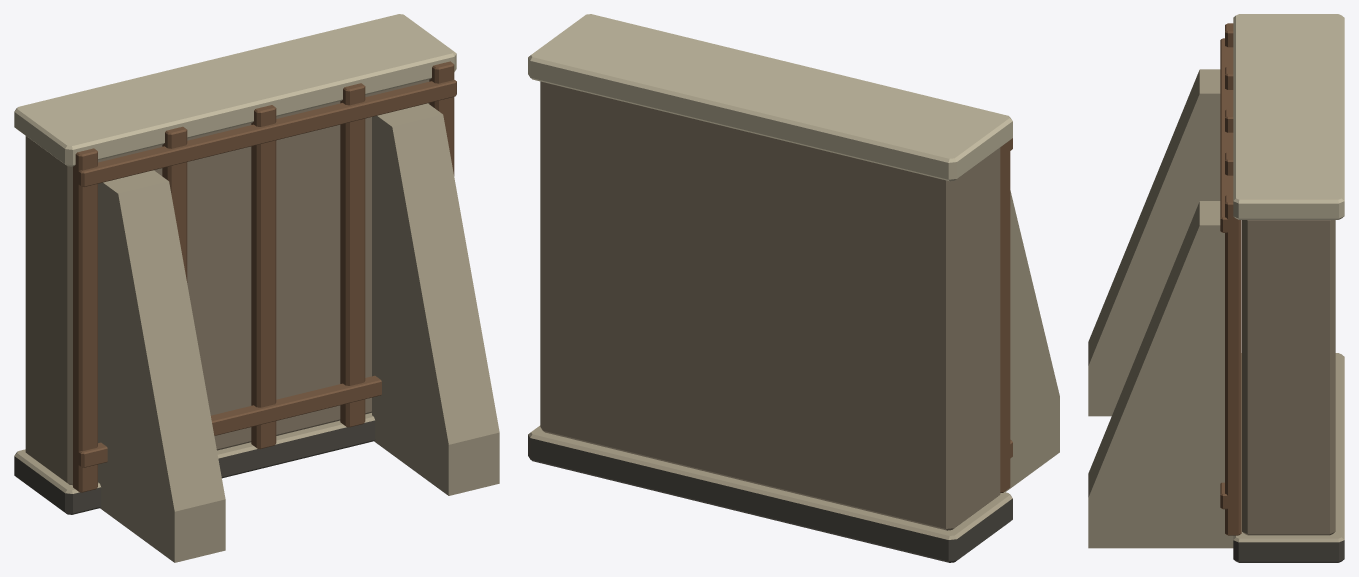
The model's file is wall-buttress.glb.
The picture shows the model from 3 angles, left to right: view 1: azimuth 30°, elevation 25°; view 2: azimuth 150°, elevation 25°; view 3: azimuth 270°, elevation 25°; orthographic projection. The views are drawn at different scales.
Parts seen in each view (by area): view 1: wall-buttress__body; view 2: wall-buttress__body; view 3: wall-buttress__body.
Boxes of the visible parts, bbox=[...] form: wall-buttress__body: bbox=[14, 14, 499, 562]; wall-buttress__body: bbox=[528, 14, 1059, 562]; wall-buttress__body: bbox=[1088, 14, 1344, 562].
Size of the model in its own units: 2 by 1.8 by 1.15.
